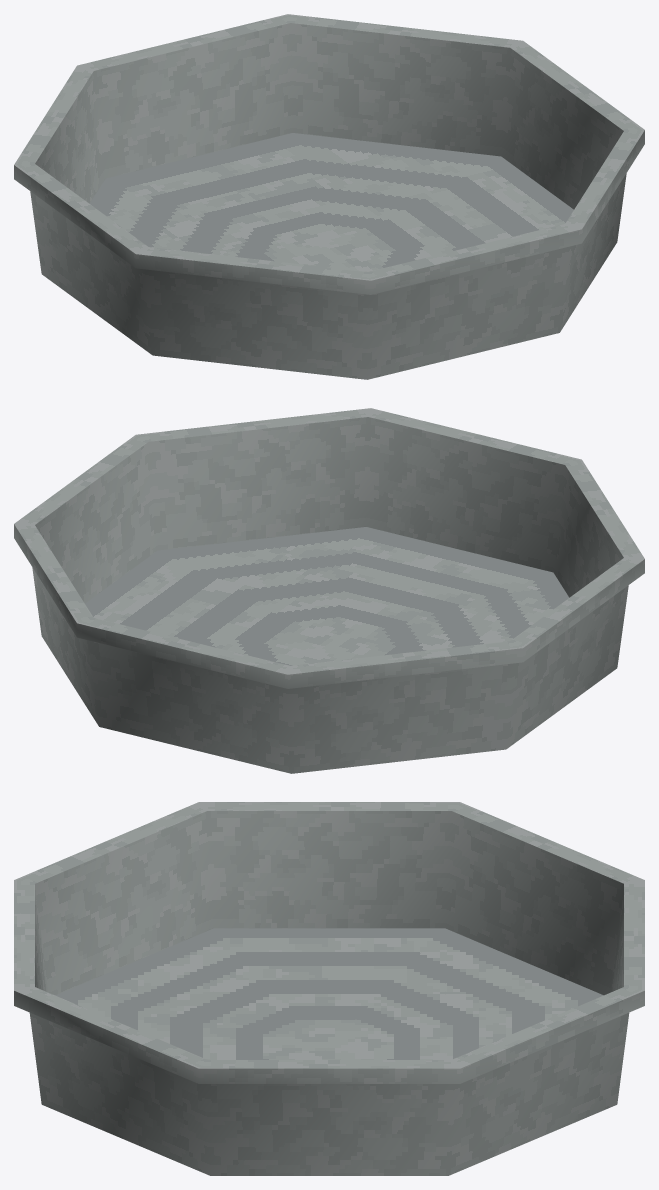
Rendered from 050c_Washtub.glb.
3 views of the same model, one above another, from view 1: azimuth 30°, elevation 25°; view 2: azimuth 150°, elevation 25°; view 3: azimuth 270°, elevation 25° (orthographic). The views are drawn at different scales.
Parts seen in each view (by area): view 1: part_0; view 2: part_0; view 3: part_0.
Part boxes in pixels (x1,y1,x2,y2): part_0: (14, 14, 644, 379); part_0: (14, 408, 644, 773); part_0: (14, 802, 644, 1175).
Bounding box in the file's own units: 0.3744 × 0.0778 × 0.3744.
Materials: 1 (1 with a texture image).
